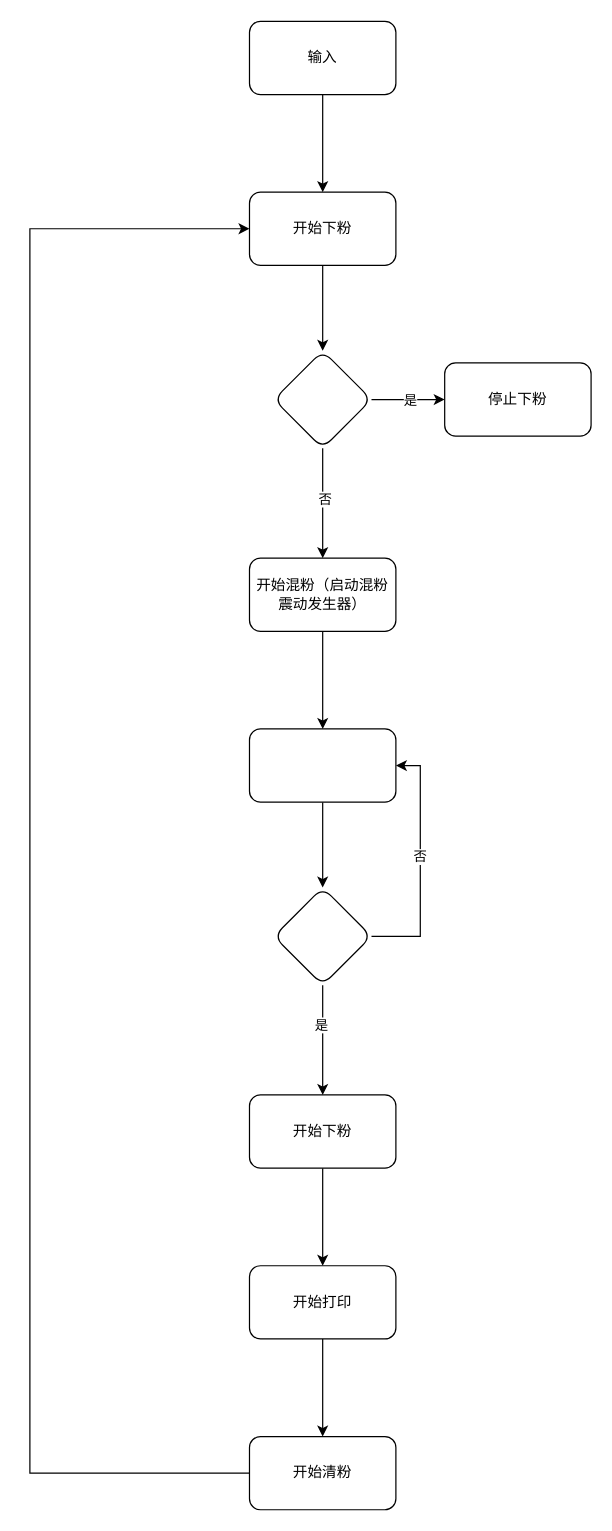
Image size: 612x1531. Some labels were removed from this diagram. Here are the shapes that lost their labels. From the top down, the centre of each, then its label:
(x=322, y=399): 是否大于理论安全体积
(x=322, y=765): 开始接粉
(x=322, y=935): 是否运行四次
